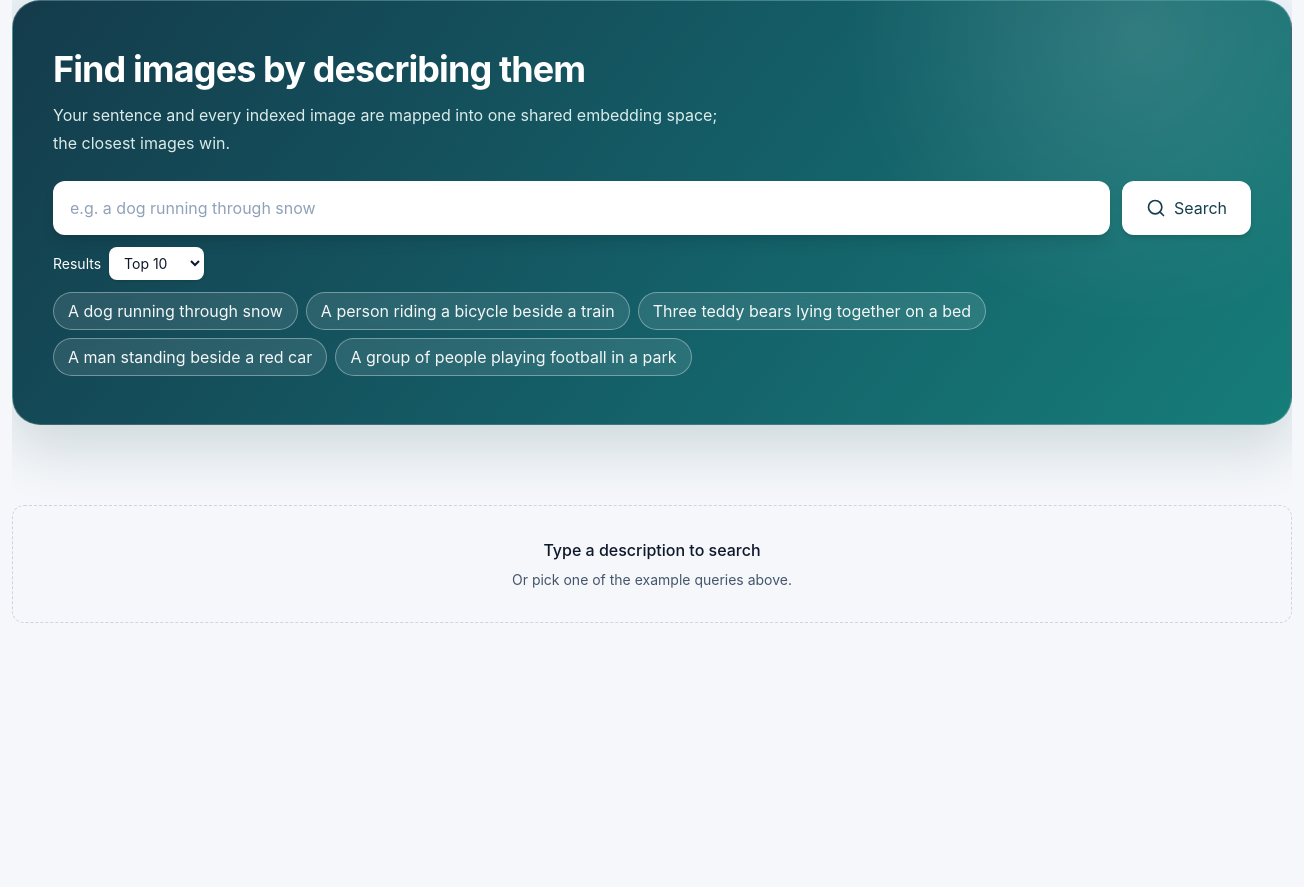
Test: SearchPage › shows ranked results with scores, captions, unknown words and an unavailable-image placeholder
In the search field named "describe the image": {"x": 581, "y": 208} top-left (53, 181), bottom-right (1110, 235), type "a dog in snow"
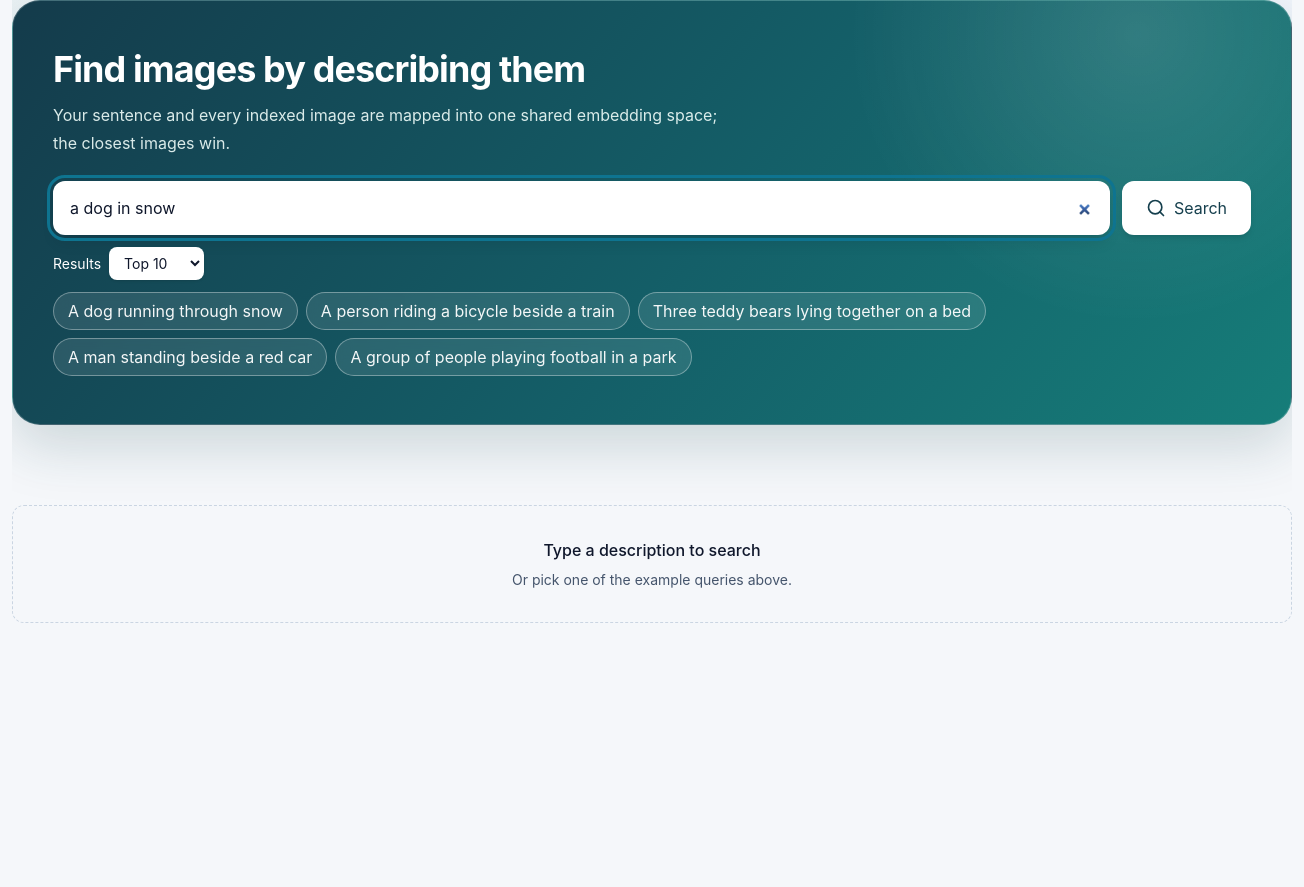
Click the button "Search": {"x": 1186, "y": 208} top-left (1122, 181), bottom-right (1251, 235)
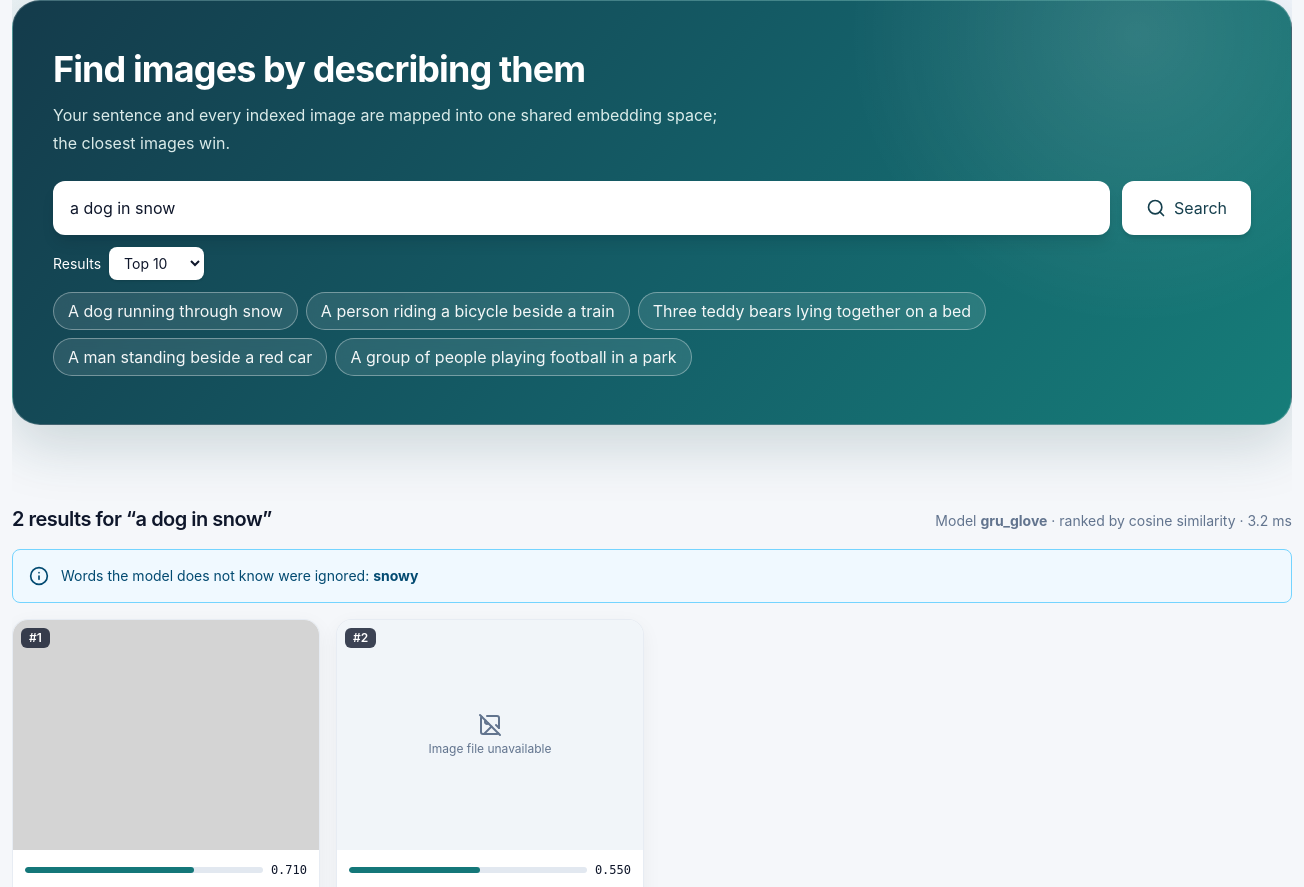
Expected: the heading "2 results for “a dog in snow”" is shown, top-left (12, 505), bottom-right (272, 533)
Expected: the text "0.710" is shown, top-left (271, 862), bottom-right (307, 878)
Expected: the text "snowy" is shown, top-left (373, 567), bottom-right (418, 584)
